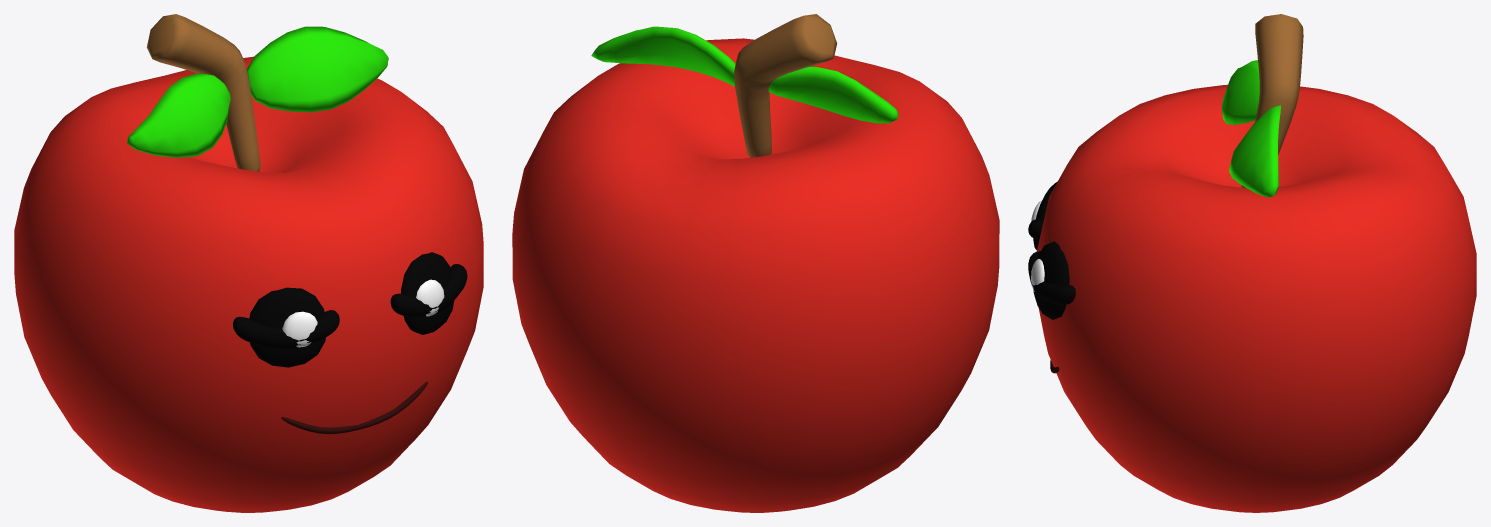
File: Apple.fbx
3 views of the same model, side by side, from view 1: azimuth 30°, elevation 25°; view 2: azimuth 150°, elevation 25°; view 3: azimuth 270°, elevation 25° (orthographic). The views are drawn at different scales.
Parts seen in each view (by area): view 1: Sphere, Eyes, Blink_eyes; view 2: Sphere; view 3: Sphere, Eyes, Blink_eyes.
Part boxes in pixels (x1,y1,x2,y2): Sphere: (14, 14, 483, 512); Eyes: (249, 252, 454, 367); Blink_eyes: (232, 264, 467, 348); Sphere: (512, 14, 999, 512); Sphere: (1037, 14, 1476, 512); Eyes: (1031, 181, 1069, 319); Blink_eyes: (1028, 219, 1075, 304).
Size of the model in its own units: 188 by 211 by 192.
